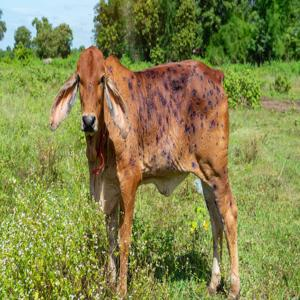lumpy skin diesease: (48, 44, 241, 299)
